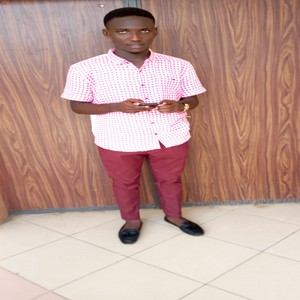Fulokoja_male_student: (91, 12, 192, 231)
